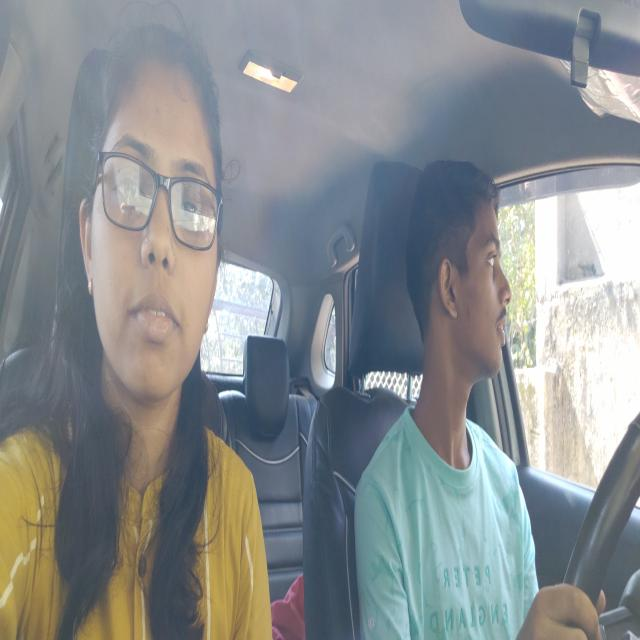LeftRight: (403, 153, 514, 409)
person: (78, 23, 228, 439)
